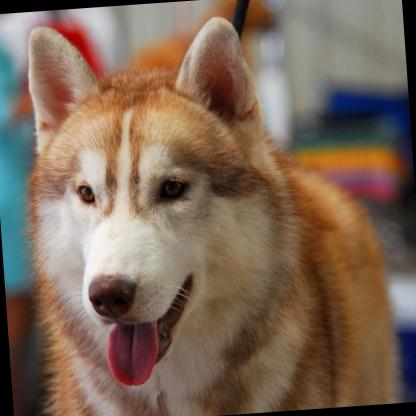Eskimo_dog: (8, 0, 407, 416)
